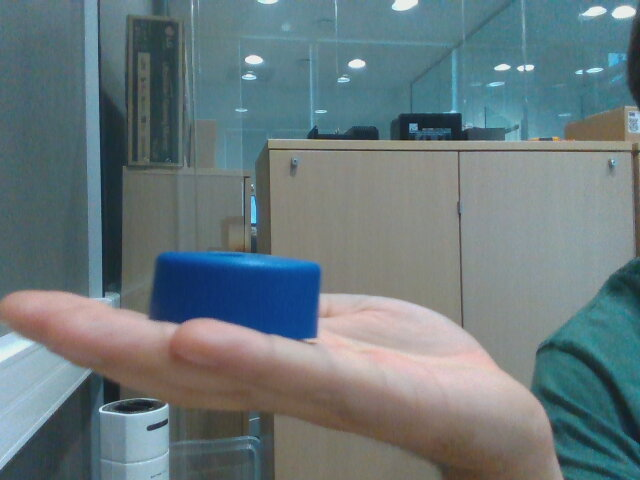alfa: (143, 238, 327, 346)
